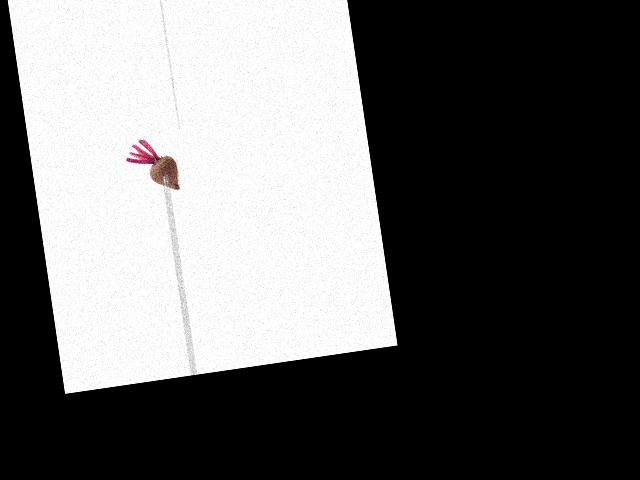beet: (123, 135, 180, 197)
